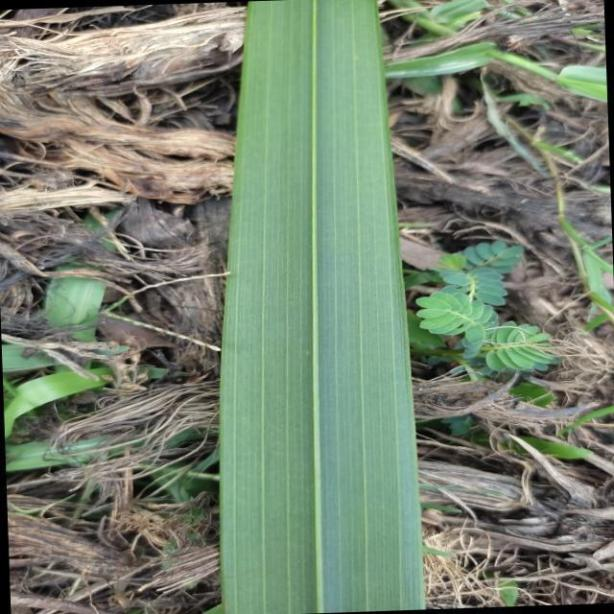Healthy: (221, 3, 422, 614)
